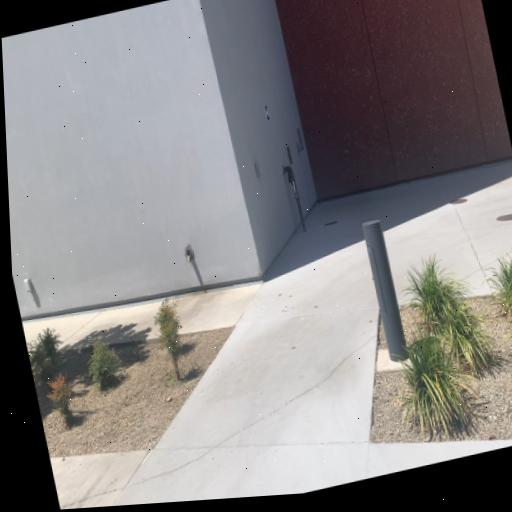target3: (264, 105, 270, 120)
